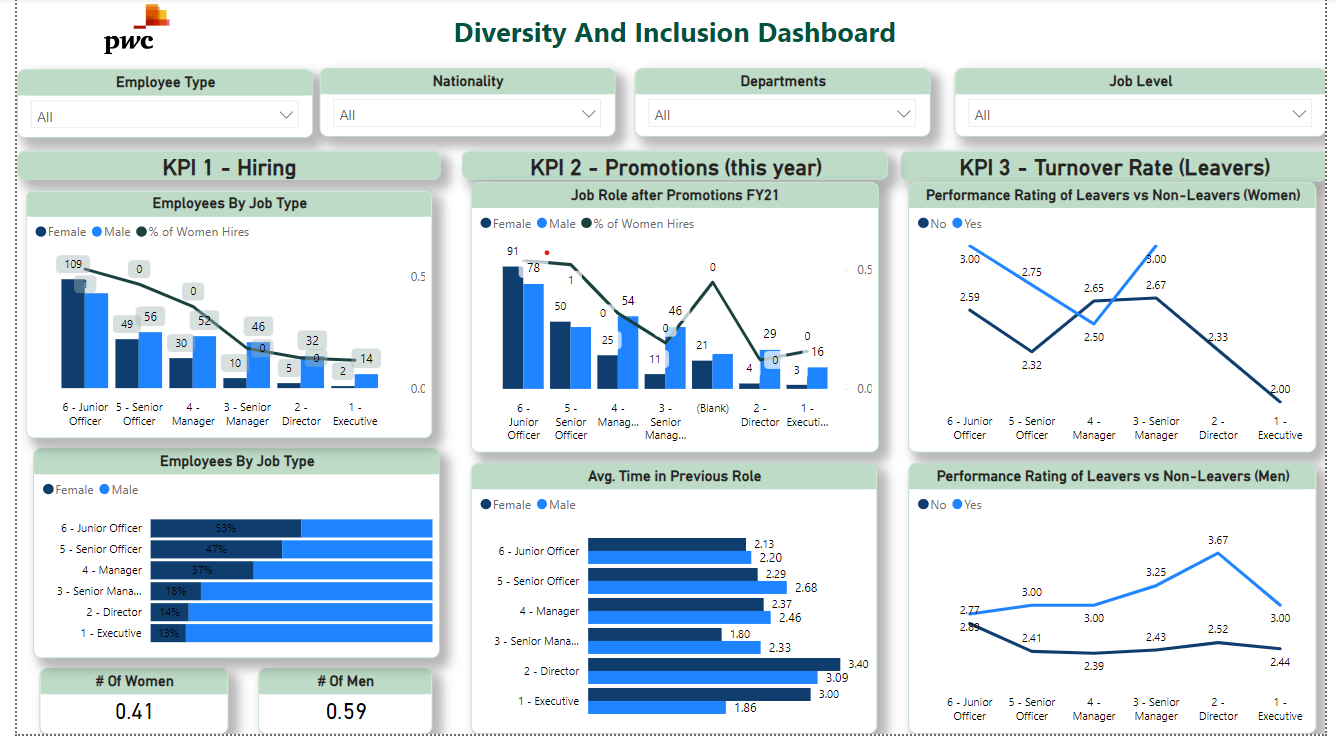

This screenshot's page, from the dashboard's own definition file:
{"tool":"powerbi","page":{"name":"Dashboard - 1","canvas":[1280,720],"ordinal":1},"visuals":[{"type":"image","box":[43.2,1.2,148.8,58.8],"z":0},{"type":"textbox","box":[305.1,9.6,675.4,49.4],"z":1},{"type":"slicer","title":"Employee Type","fields":{"Values":["Pharma Group AG.Time type","Pharma Group AG.FTE group"]},"box":[0,69.1,289.3,67.2],"z":2},{"type":"slicer","title":"Nationality","fields":{"Values":["Pharma Group AG.Nationality 1"]},"box":[296.1,68.6,289.3,67.2],"z":3},{"type":"slicer","title":"Departments","fields":{"Values":["Pharma Group AG.Department @01.07.2020"]},"box":[603.3,68.6,289.3,67.2],"z":4},{"type":"slicer","title":"Job Level","fields":{"Values":["Pharma Group AG.Job Level after FY20 promotions"]},"box":[917.2,68.6,363.3,67.2],"z":5},{"type":"textbox","title":"KPI 3 - Turnover Rate (Leavers)","box":[863.8,149.4,416.8,30.2],"z":6},{"type":"textbox","title":"KPI 2 - Promotions (this year)","box":[434.6,149.4,416.8,28.8],"z":7},{"type":"textbox","title":"KPI 1 - Hiring","box":[0,149.4,414.1,28.8],"z":8},{"type":"card","title":"# Of Men","fields":{"Values":["Backing 1.NofMen"]},"box":[235.8,655.4,170,64.4],"z":9},{"type":"card","title":"# Of Women","fields":{"Values":["Backing 1.NofWomen"]},"box":[21.9,655.4,185.1,64.4],"z":10},{"type":"hundredPercentStackedBarChart","title":"Employees By Job Type","fields":{"Category":["Pharma Group AG.Job Level after FY20 promotions"],"Series":["Pharma Group AG.Gender"],"Y":["Pharma Group AG.Employee ID"]},"box":[16.5,440.1,397.6,205.7],"z":11},{"type":"lineClusteredColumnComboChart","title":"Employees By Job Type","fields":{"Category":["Pharma Group AG.Job Level after FY20 promotions"],"Series":["Pharma Group AG.Gender"],"Y":["Pharma Group AG.Employee ID"],"Y2":["Backing 1.NofWomen"]},"box":[8.2,187.8,397.6,242.7],"z":12},{"type":"card","title":"# Of Men","fields":{"Values":["Backing 1.NofMen"]},"box":[542.9,537.5,170,50.7],"z":13},{"type":"card","title":"# Of Women","fields":{"Values":["Backing 1.NofWomen"]},"box":[548.4,619.7,185.1,50.7],"z":14},{"type":"lineClusteredColumnComboChart","title":"Job Role after Promotions FY21","fields":{"Series":["Pharma Group AG.Gender"],"Y":["Pharma Group AG.Employee ID"],"Y2":["Backing 1.NofWomen"],"Category":["Pharma Group AG.Job Level after FY21 promotions"]},"box":[444.2,179.6,399,264.6],"z":17},{"type":"clusteredBarChart","title":"Avg. Time in Previous Role ","fields":{"Series":["Pharma Group AG.Gender"],"Y":["Pharma Group AG.Time in Job Level @01.07.2020"],"Category":["Pharma Group AG.Job Level after FY20 promotions"]},"box":[444.2,455.2,397.6,264.6],"z":18},{"type":"lineChart","title":"Performance Rating of Leavers vs Non-Leavers (Women) ","fields":{"Category":["Pharma Group AG.Job Level after FY20 promotions"],"Y":["Pharma Group AG.FY19 Performance Rating"],"Series":["Pharma Group AG.FY20 leaver?"]},"box":[872,179.6,399,264.6],"z":19},{"type":"lineChart","title":"Performance Rating of Leavers vs Non-Leavers (Men) ","fields":{"Category":["Pharma Group AG.Job Level after FY20 promotions"],"Y":["Pharma Group AG.FY19 Performance Rating"],"Series":["Pharma Group AG.FY20 leaver?"]},"box":[872,455.2,399,264.6],"z":20}]}

Visuals, with their boxes in screenshot pixels (x1, y1, x2, y2), scaled from the page's 1280x720 canvas onto the 1335x742 screenshot:
image: 45:1:200:62
textbox: 318:10:1023:61
"Employee Type" slicer: 0:71:302:140
"Nationality" slicer: 309:71:611:140
"Departments" slicer: 629:71:931:140
"Job Level" slicer: 957:71:1334:140
"KPI 3 - Turnover Rate (Leavers)" textbox: 901:154:1334:185
"KPI 2 - Promotions (this year)" textbox: 453:154:888:184
"KPI 1 - Hiring" textbox: 0:154:432:184
"# Of Men" card: 246:675:423:741
"# Of Women" card: 23:675:216:741
"Employees By Job Type" hundredPercentStackedBarChart: 17:454:432:666
"Employees By Job Type" lineClusteredColumnComboChart: 9:194:423:444
"# Of Men" card: 566:554:744:606
"# Of Women" card: 572:639:765:691
"Job Role after Promotions FY21" lineClusteredColumnComboChart: 463:185:879:458
"Avg. Time in Previous Role " clusteredBarChart: 463:469:878:741
"Performance Rating of Leavers vs Non-Leavers (Women) " lineChart: 909:185:1326:458
"Performance Rating of Leavers vs Non-Leavers (Men) " lineChart: 909:469:1326:741
